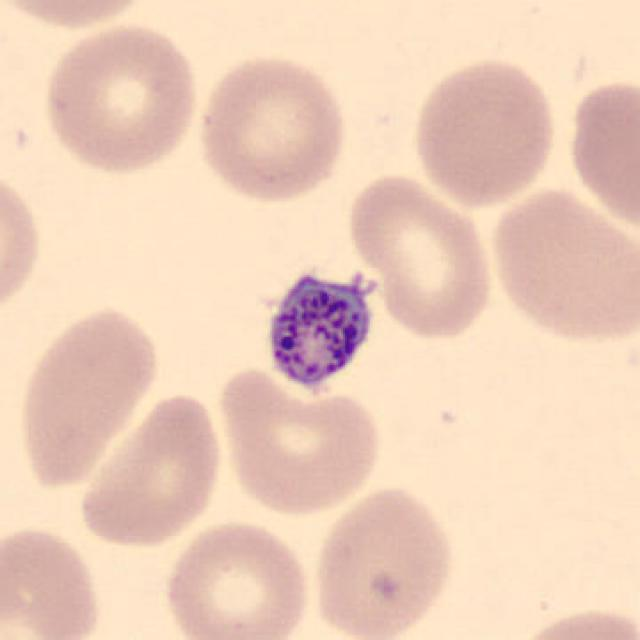Platelets: (249, 261, 384, 400)
RBC: (13, 300, 164, 493), (342, 167, 499, 344), (212, 362, 388, 518), (38, 18, 204, 178), (192, 50, 352, 206), (484, 184, 636, 348), (407, 53, 562, 210), (74, 390, 226, 550), (306, 483, 458, 640), (160, 516, 314, 640), (0, 520, 107, 640), (562, 72, 640, 236), (0, 160, 46, 328), (0, 0, 156, 33), (508, 601, 638, 640)
